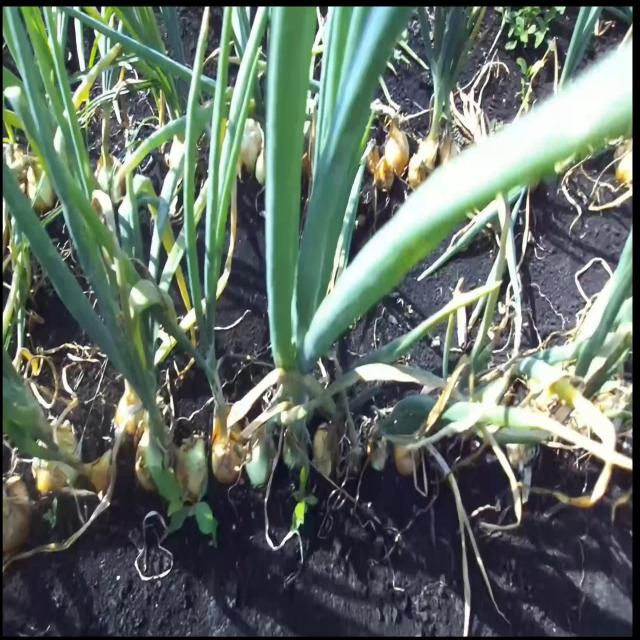onion: (35, 427, 77, 494), (138, 426, 171, 499), (230, 108, 261, 176), (212, 418, 245, 480), (4, 477, 30, 555), (175, 444, 208, 502), (312, 420, 342, 472), (117, 387, 144, 441), (396, 430, 423, 476), (88, 456, 114, 502), (419, 129, 445, 175), (386, 128, 408, 178), (370, 428, 388, 472), (408, 157, 426, 192)
